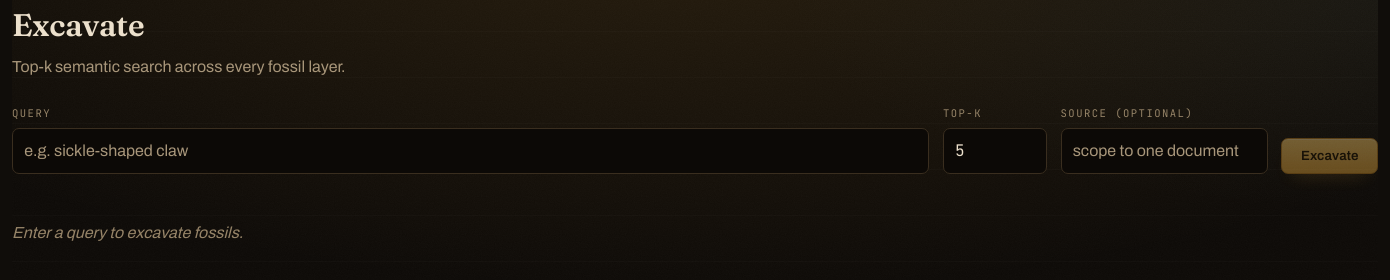
Test: ExcavatePanel › surfaces an API error as an alert
Type "boom" into the field labelled "Query" at x=471, y=151, box [12, 128, 929, 174]
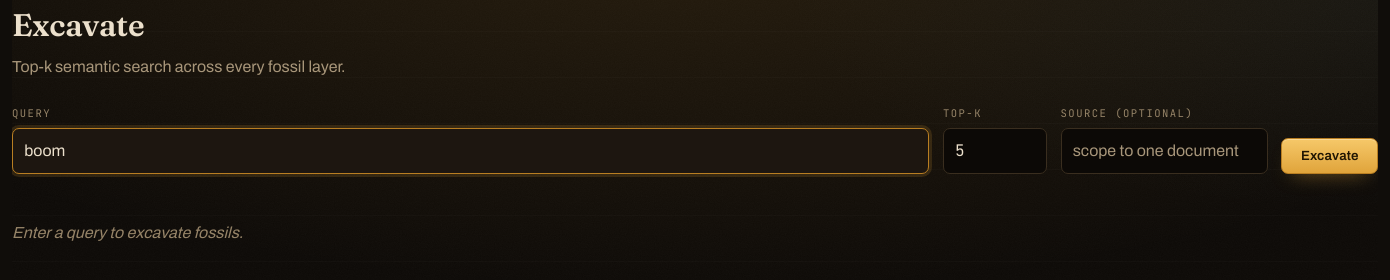
Click the button "Excavate" at x=1330, y=156, box [1282, 138, 1378, 174]
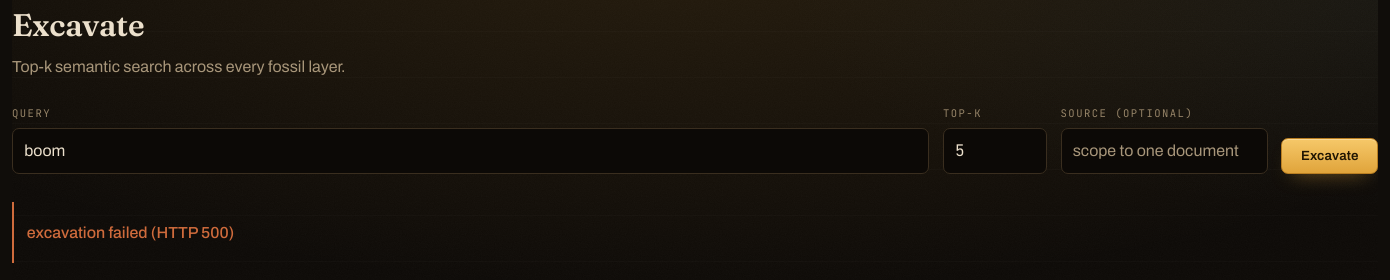
Check: the message shows "excavation failed", box [27, 224, 234, 241]
Check: the message shows "500", box [27, 224, 234, 241]
